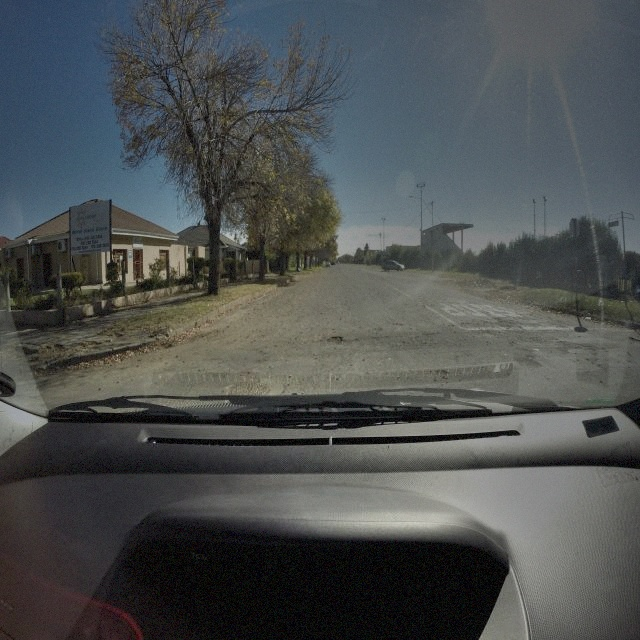pothole: (327, 333, 344, 348), (438, 367, 450, 377)
